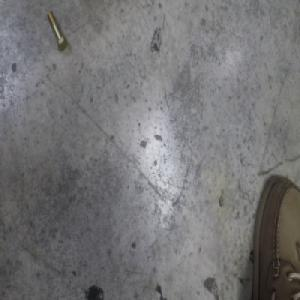Bolt: (46, 9, 67, 52)
